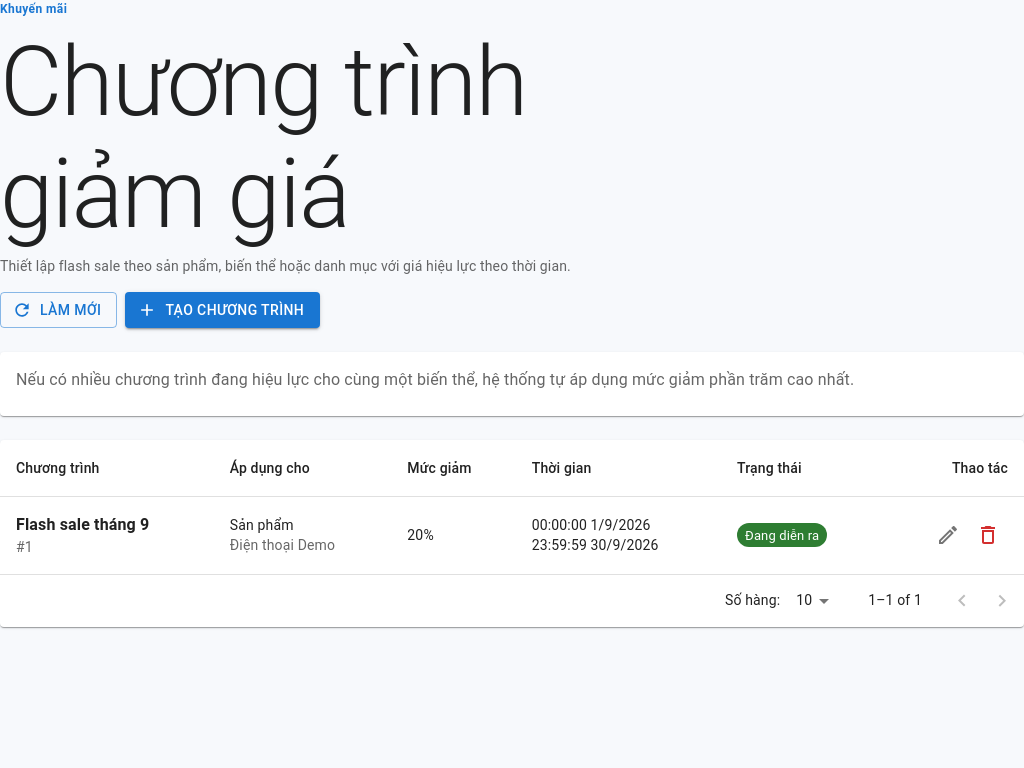
US-12.3: AdminPromotionsPage › shows API timestamps in local datetime inputs when editing
This screenshot has width=1024, height=768.
Expected: the text "Flash sale tháng 9" is shown, [16,516,149,534]
Click the button named "Sửa Flash sale tháng 9": (948, 536) [928,516,968,556]
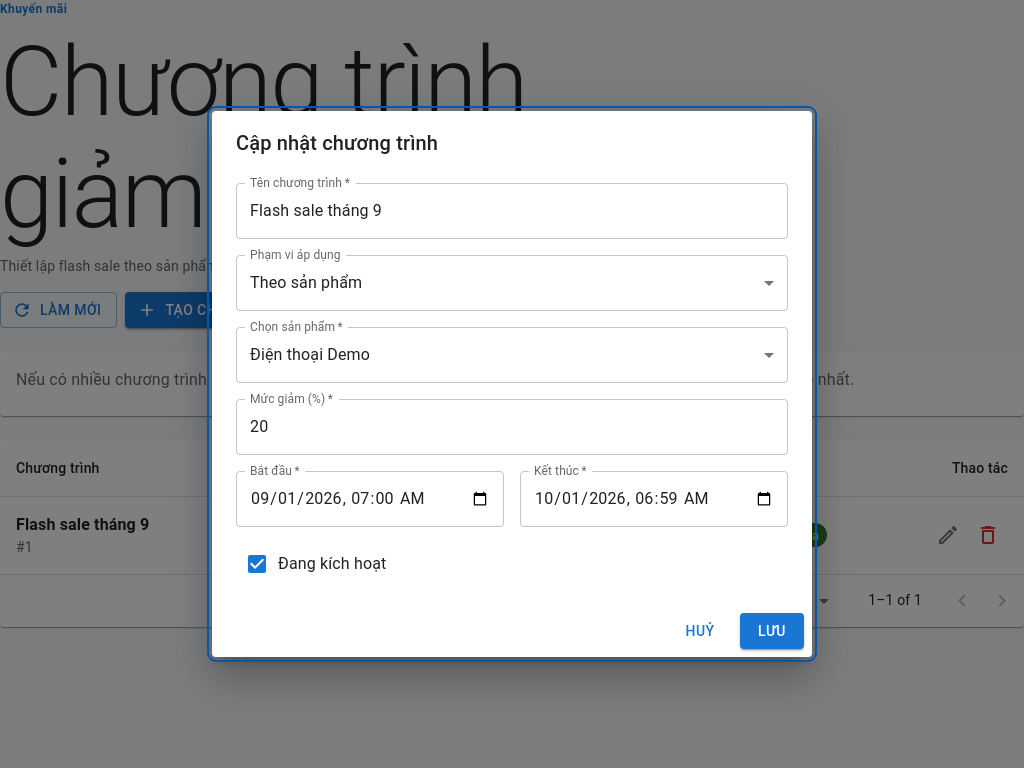
Expected: the field showing "2026-09-01T07:00" is shown, [236,471,504,527]
Expected: the field showing "2026-10-01T06:59" is shown, [520,471,788,527]
